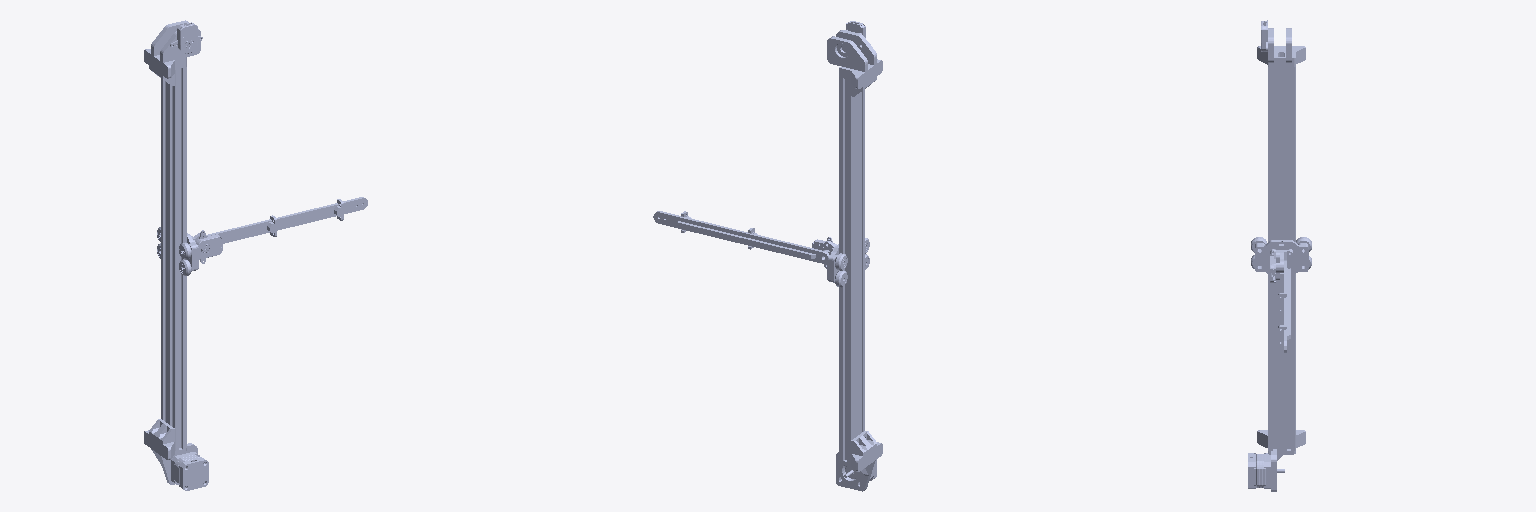
URDF robot description (pendulum_model):
<?xml version="1.0" encoding="utf-8"?>
<!-- This URDF was automatically created by SolidWorks to URDF Exporter! Originally created by [author] ([email redacted]) 
     Commit Version: 1.6.0-4-g7f85cfe  Build Version: 1.6.7995.38578
     For more information, please see http://wiki.ros.org/sw_urdf_exporter -->
<robot
  name="pendulum_model">
  <link
    name="pendulum_rail">
    <inertial>
      <origin
        xyz="0.0180843841419525 0.273978384739283 -0.00420217381661675"
        rpy="0 0 0" />
      <mass
        value="0.37048529354219" />
      <inertia
        ixx="0.00548733542334145"
        ixy="-3.75612596167172E-06"
        ixz="-3.5023304587495E-06"
        iyy="0.000104633994928134"
        iyz="3.24569798016515E-06"
        izz="0.00548116463609628" />
    </inertial>
    <visual>
      <origin
        xyz="0 0 0"
        rpy="0 0 0" />
      <geometry>
        <mesh
          filename="package://pendulum_model/meshes/pendulum_rail.STL" />
      </geometry>
      <material
        name="">
        <color
          rgba="0.792156862745098 0.819607843137255 0.933333333333333 1" />
      </material>
    </visual>
    <collision>
      <origin
        xyz="0 0 0"
        rpy="0 0 0" />
      <geometry>
        <mesh
          filename="package://pendulum_model/meshes/pendulum_rail.STL" />
      </geometry>
    </collision>
  </link>
  <link
    name="pendulum_slider_link">
    <inertial>
      <origin
        xyz="0.001619869574778 0.00108185796497699 -0.0269998749142826"
        rpy="0 0 0" />
      <mass
        value="0.0582658571037464" />
      <inertia
        ixx="8.68382644405515E-06"
        ixy="1.55313204721478E-07"
        ixz="5.45082856706509E-11"
        iyy="2.23593308110749E-05"
        iyz="-4.00718232646675E-09"
        izz="1.76301108715888E-05" />
    </inertial>
    <visual>
      <origin
        xyz="0 0 0"
        rpy="0 0 0" />
      <geometry>
        <mesh
          filename="package://pendulum_model/meshes/pendulum_slider_link.STL" />
      </geometry>
      <material
        name="">
        <color
          rgba="0.792156862745098 0.819607843137255 0.933333333333333 1" />
      </material>
    </visual>
    <collision>
      <origin
        xyz="0 0 0"
        rpy="0 0 0" />
      <geometry>
        <mesh
          filename="package://pendulum_model/meshes/pendulum_slider_link.STL" />
      </geometry>
    </collision>
  </link>
  <joint
    name="pendulum_slider"
    type="prismatic">
    <origin
      xyz="0.0385 0.01 0.27703"
      rpy="3.1416 0 -1.5708" />
    <parent
      link="pendulum_rail" />
    <child
      link="pendulum_slider_link" />
    <axis
      xyz="0 0 1" />
    <limit
      lower="-0.25"
      upper="0.25"
      effort="0"
      velocity="0" />
  </joint>
  <link
    name="pendulum_arm_link">
    <inertial>
      <origin
        xyz="0 0.137569522780703 0.00584792549375092"
        rpy="0 0 0" />
      <mass
        value="0.0357759270156992" />
      <inertia
        ixx="0.000197057978214731"
        ixy="-4.12891215436228E-20"
        ixz="-1.26266065267032E-21"
        iyy="1.12877603101033E-06"
        iyz="2.45118160750407E-07"
        izz="0.00019772831649183" />
    </inertial>
    <visual>
      <origin
        xyz="0 0 0"
        rpy="0 0 0" />
      <geometry>
        <mesh
          filename="package://pendulum_model/meshes/pendulum_arm_link.STL" />
      </geometry>
      <material
        name="">
        <color
          rgba="0.792156862745098 0.819607843137255 0.933333333333333 1" />
      </material>
    </visual>
    <collision>
      <origin
        xyz="0 0 0"
        rpy="0 0 0" />
      <geometry>
        <mesh
          filename="package://pendulum_model/meshes/pendulum_arm_link.STL" />
      </geometry>
    </collision>
  </link>
  <joint
    name="pendulum_arm"
    type="continuous">
    <origin
      xyz="0 -0.0240000000000017 -0.0270000000000006"
      rpy="3.14159265358979 1.5707963267949 0" />
    <parent
      link="pendulum_slider_link" />
    <child
      link="pendulum_arm_link" />
    <axis
      xyz="0 0 1" />
  </joint>
</robot>

--- Facts derived from the render (not from the file) ---
Views: 3 orthographic renders of the robot side by side, from view 1: azimuth 30°, elevation 25°; view 2: azimuth 150°, elevation 25°; view 3: azimuth 270°, elevation 25°.
Robot: pendulum_model — 3 links, 2 joints (1 continuous, 1 prismatic); root link pendulum_rail; default pose: every joint at zero.
Links seen in each view (by area): view 1: pendulum_rail, pendulum_arm_link, pendulum_slider_link; view 2: pendulum_rail, pendulum_arm_link, pendulum_slider_link; view 3: pendulum_rail, pendulum_slider_link, pendulum_arm_link.
Link boxes in pixels (left/top/right/bottom): pendulum_rail: left=144, top=20, right=208, bottom=490; pendulum_arm_link: left=206, top=197, right=367, bottom=243; pendulum_slider_link: left=157, top=227, right=222, bottom=275; pendulum_rail: left=827, top=21, right=882, bottom=491; pendulum_arm_link: left=653, top=211, right=828, bottom=263; pendulum_slider_link: left=812, top=237, right=869, bottom=287; pendulum_rail: left=1248, top=20, right=1305, bottom=491; pendulum_slider_link: left=1251, top=237, right=1311, bottom=282; pendulum_arm_link: left=1278, top=260, right=1290, bottom=352.
Size in the robot's own frame: 0.3515 by 0.0914 by 0.7231 metres.
Meshes: 3 distinct files referenced, 3 mesh visuals loaded (3 binary STL).
